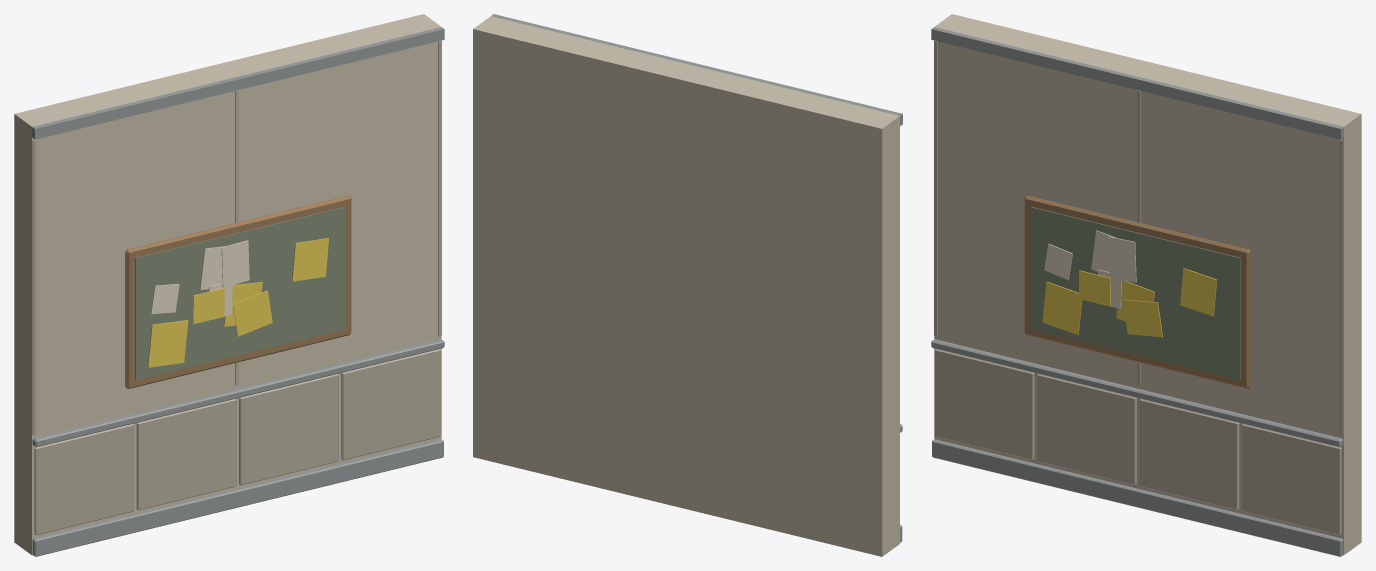
Rendered from wall_an_notice.glb.
3 views of the same model, side by side, from view 1: azimuth 30°, elevation 25°; view 2: azimuth 150°, elevation 25°; view 3: azimuth 330°, elevation 25° (orthographic).
Visible parts, largest first — view 1: wall_an_notice; view 2: wall_an_notice; view 3: wall_an_notice.
Part boxes in pixels (x1,y1,x2,y2): wall_an_notice: [14, 14, 444, 556]; wall_an_notice: [473, 14, 902, 556]; wall_an_notice: [931, 14, 1361, 556].
Size of the model in its own units: 4 by 4 by 0.442.
